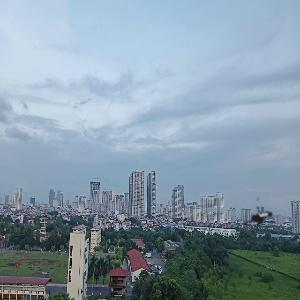drone: (223, 186, 296, 259)
